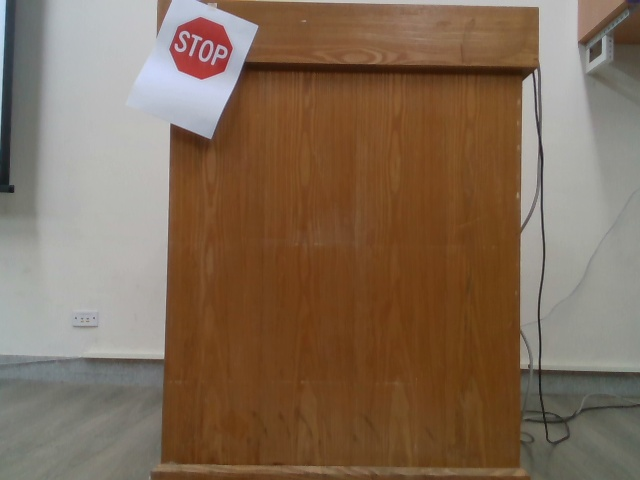stop: (168, 15, 234, 83)
